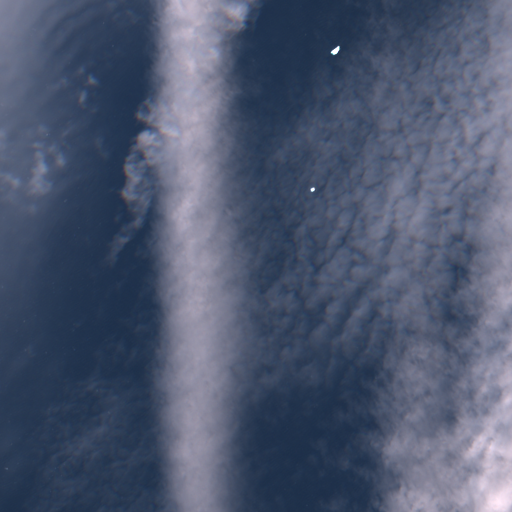Iceberg: (331, 46, 339, 54), (310, 187, 314, 191)
